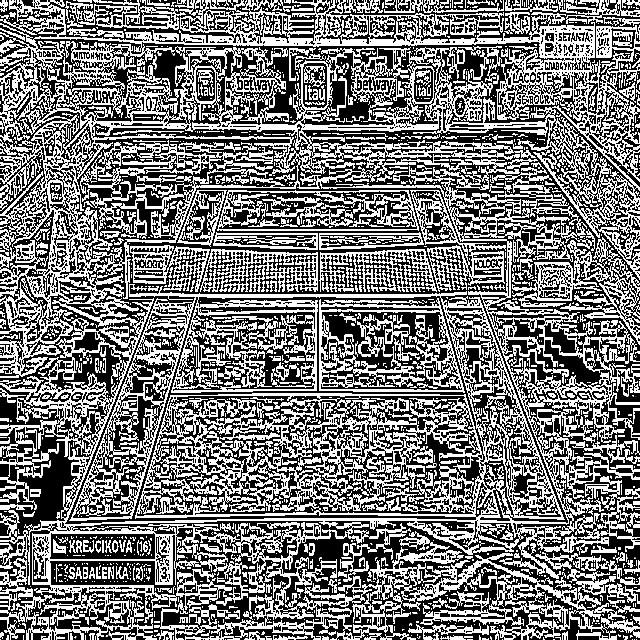left side: (65, 188, 227, 523), (408, 188, 567, 521)
player: (464, 403, 520, 551), (282, 122, 308, 191)
